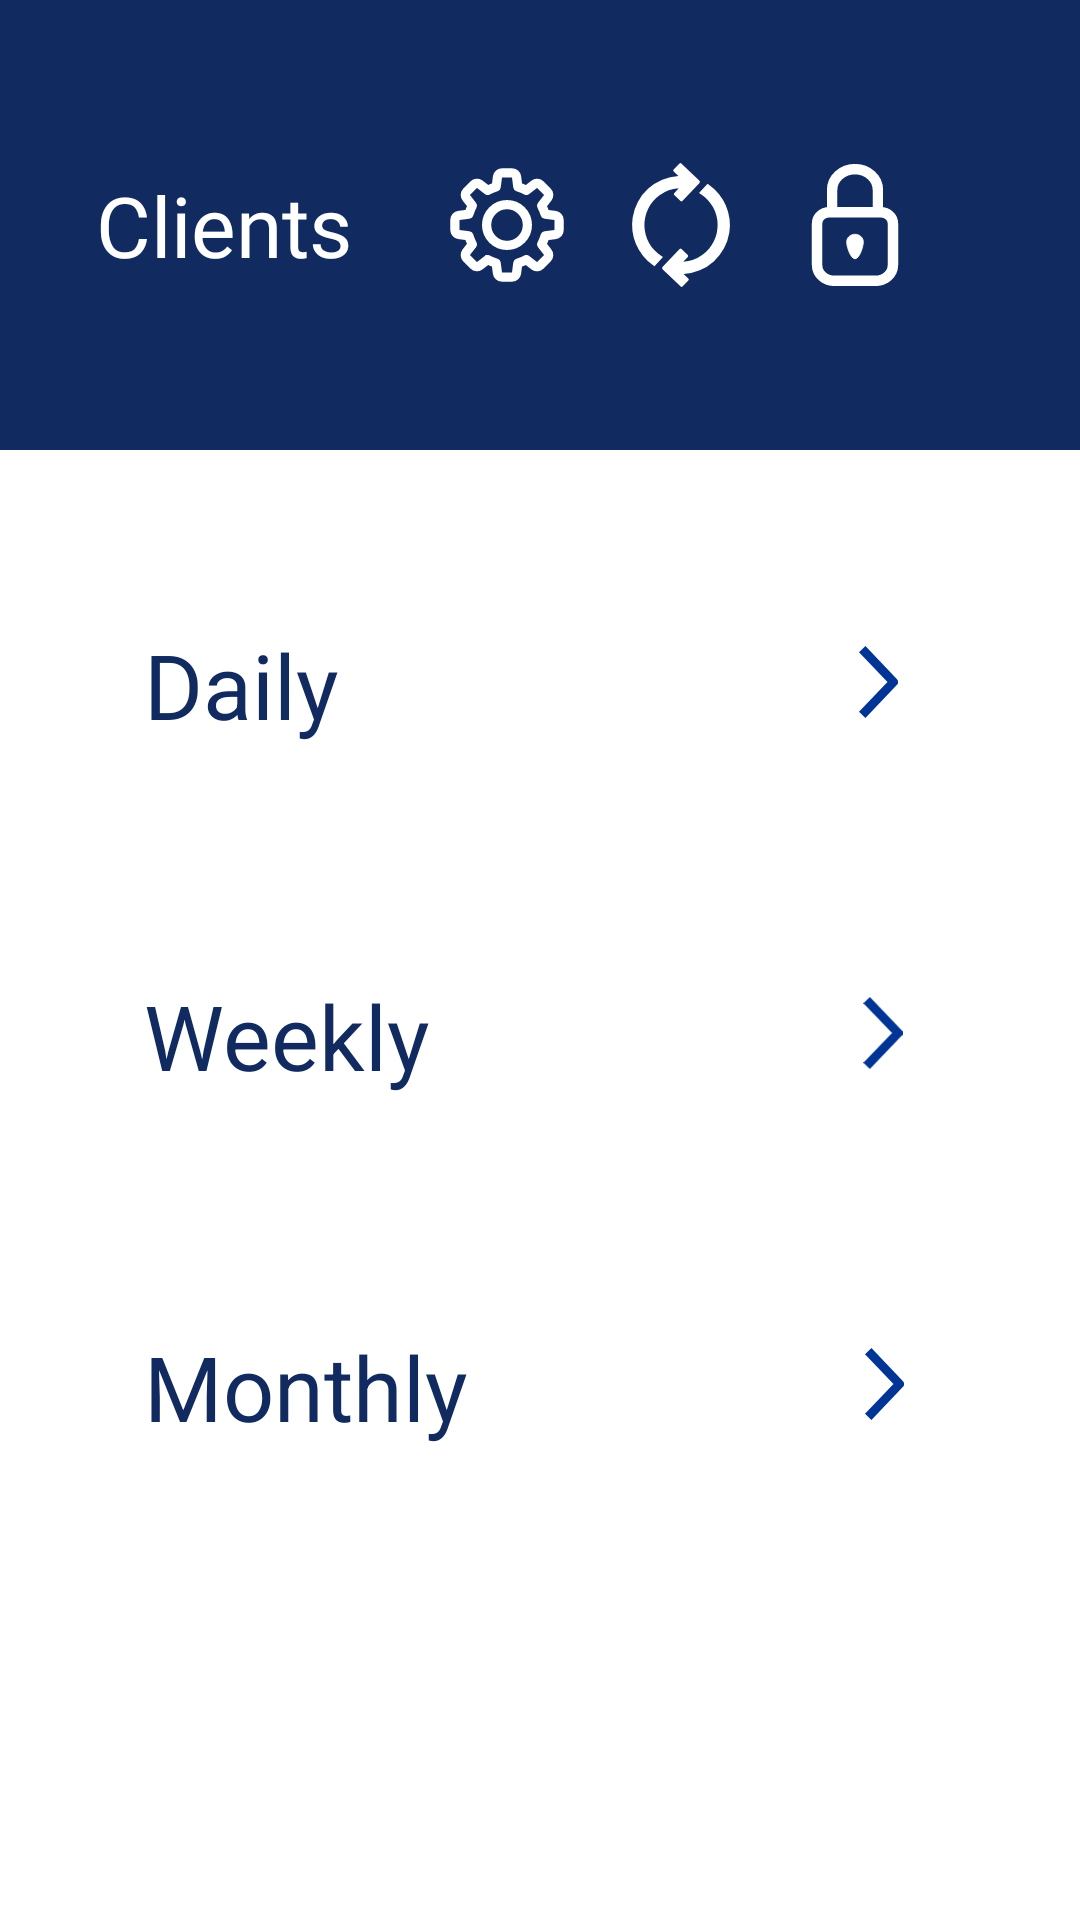

Screen size 1080×1920. Icon name, then its box in pixels as (x1, y1, x2, y2):
carret right: (859, 646, 898, 718), (863, 997, 903, 1069), (865, 1348, 904, 1420)
lock: (811, 164, 899, 286)
settings: (450, 168, 564, 282)
sync: (632, 163, 730, 287)
